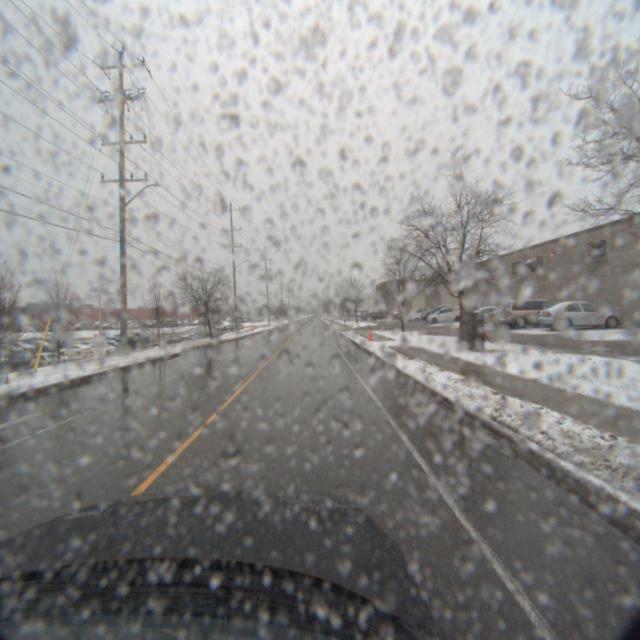Car: (527, 298, 625, 332), (491, 298, 571, 328), (477, 304, 537, 328), (461, 305, 515, 329), (421, 307, 462, 325)
